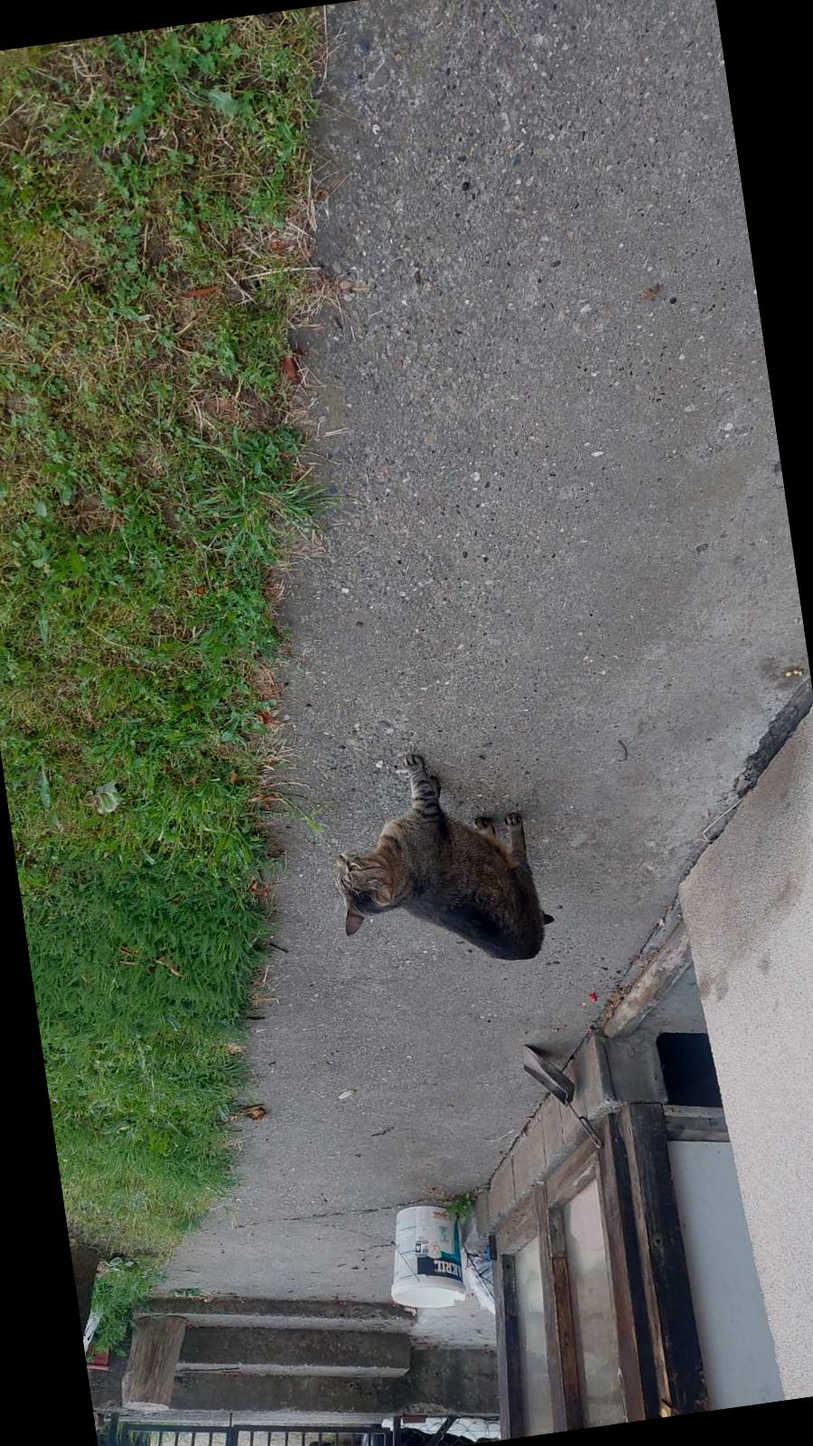macka: (319, 735, 561, 985)
